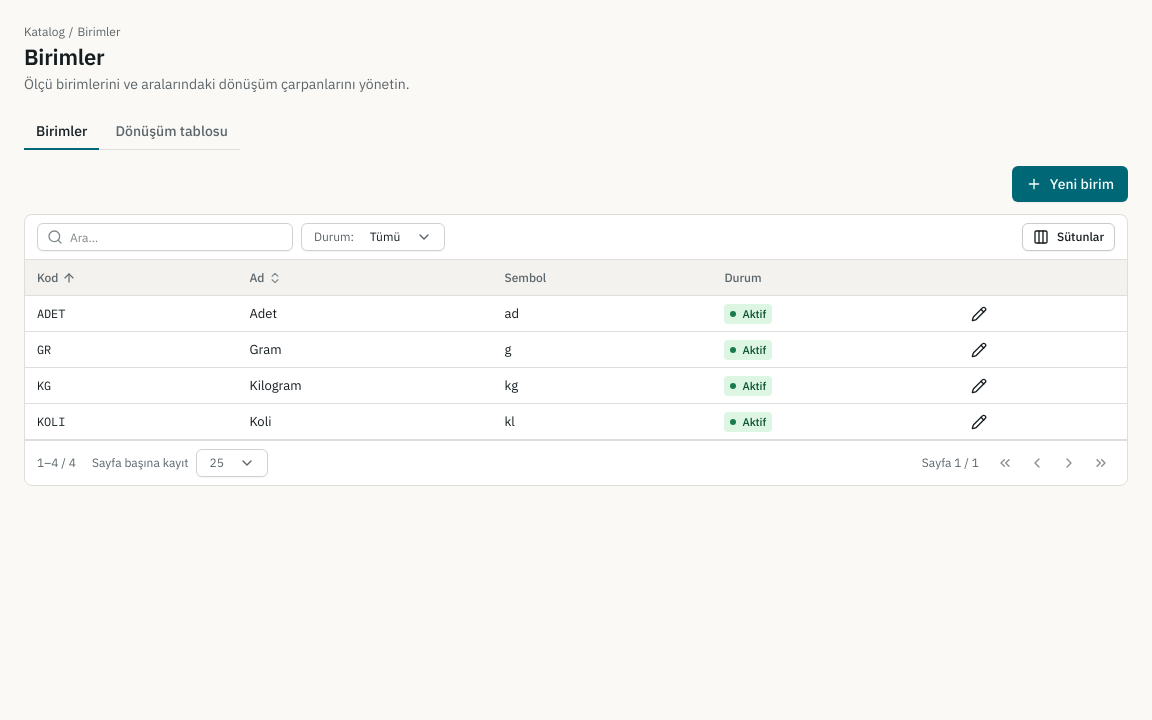
Test: UnitsPage › offers a reload on a version conflict
The width and height of the screenshot is (1152, 720).
Click the button named "KG birimini düzenle" at (979, 386), box [965, 372, 993, 400]
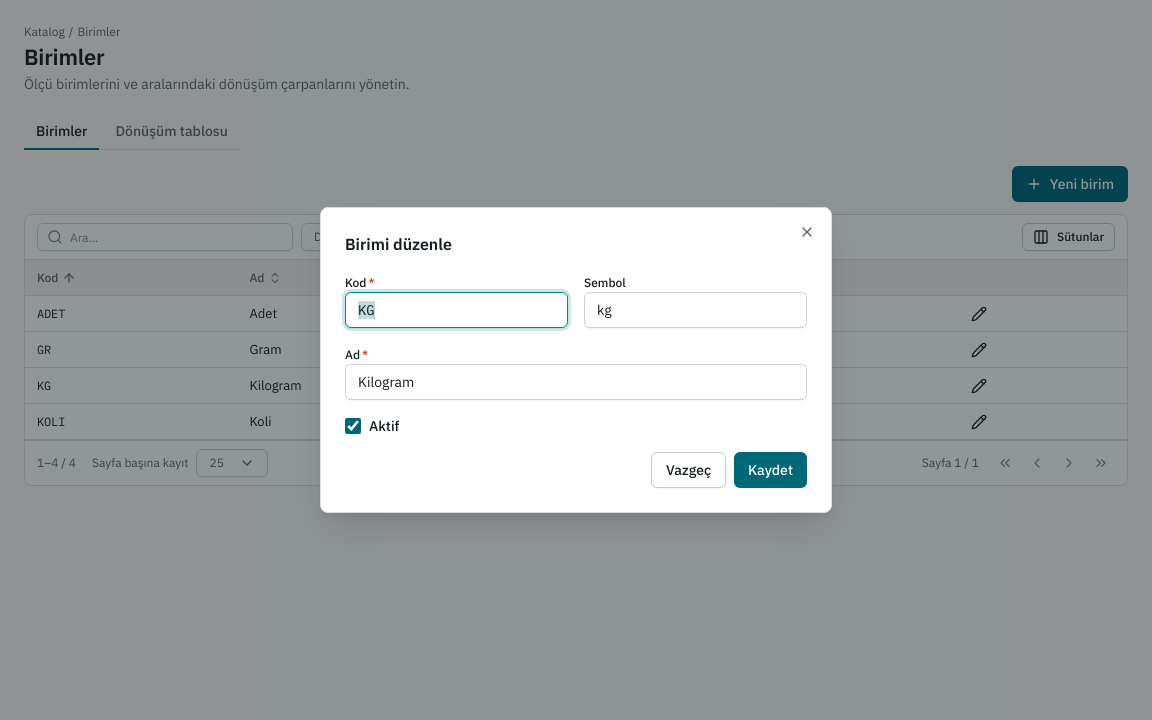
Replace the text in the field labelled "Ad*" with "Kg" at (576, 382), box [345, 364, 807, 400]
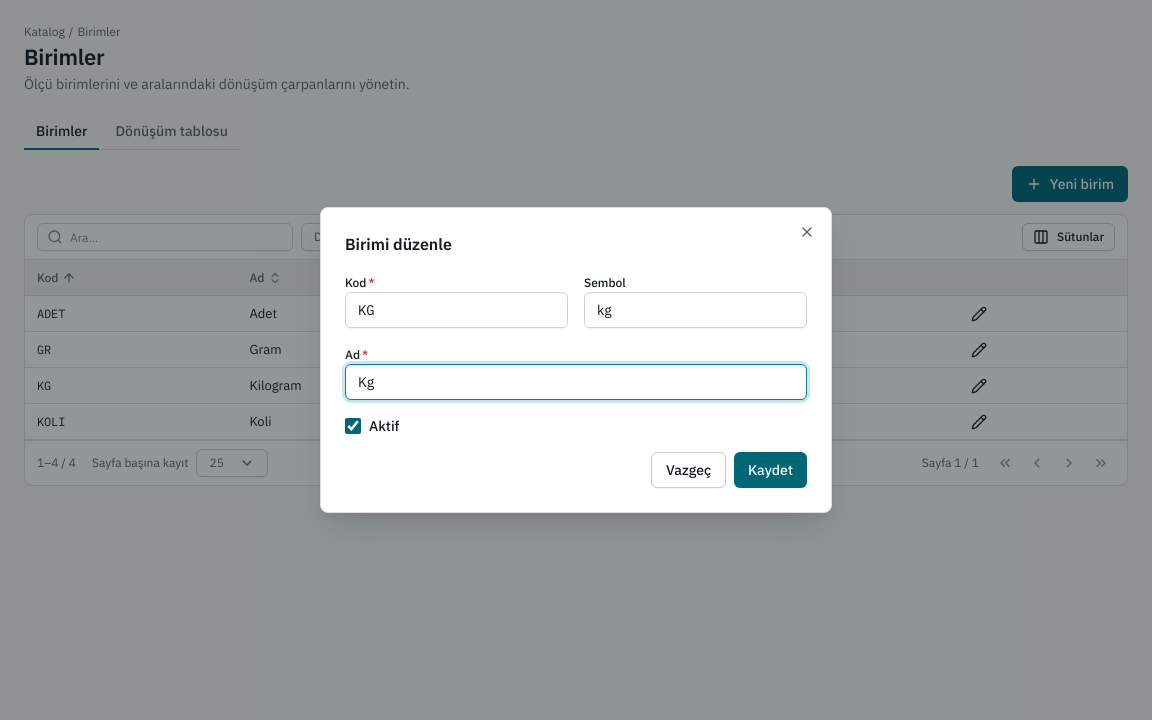
Click the button "Kaydet" at (771, 470), box [734, 452, 807, 488]
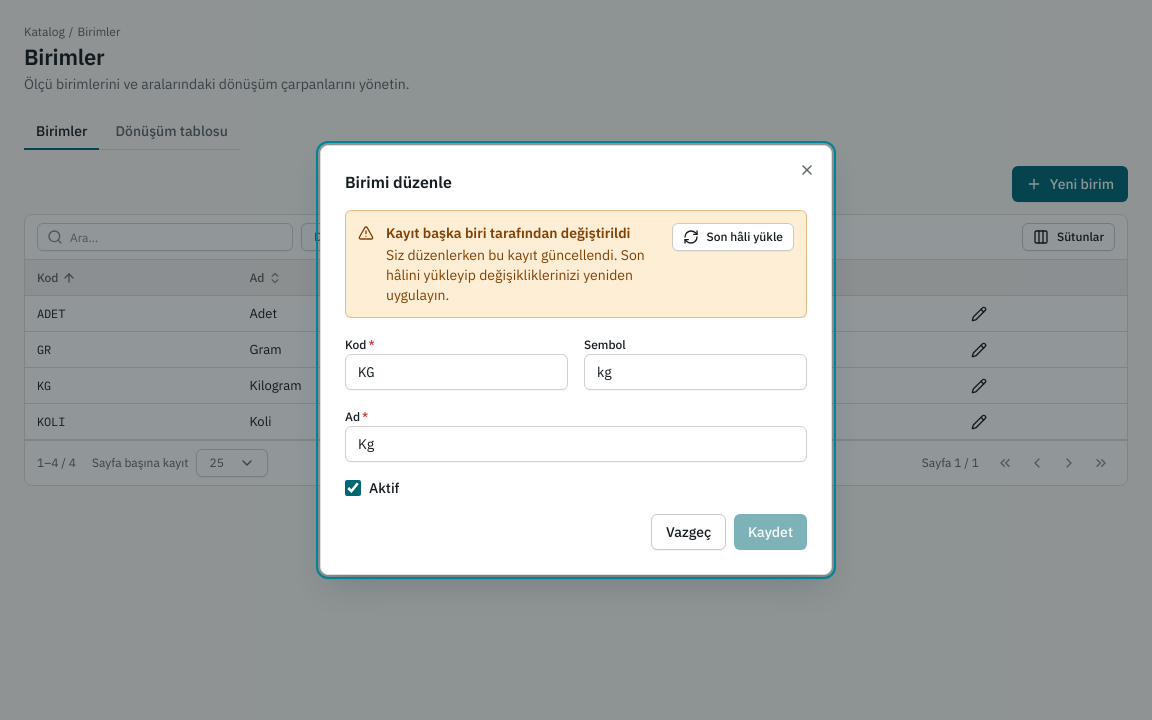
Expected: the text "Kayıt başka biri tarafından değiştirildi" is shown, [386, 223, 660, 243]
Expected: the button "Kaydet" is disabled, [734, 514, 807, 550]
Click the button "Son hâli yükle" at (733, 237), box [672, 223, 794, 251]
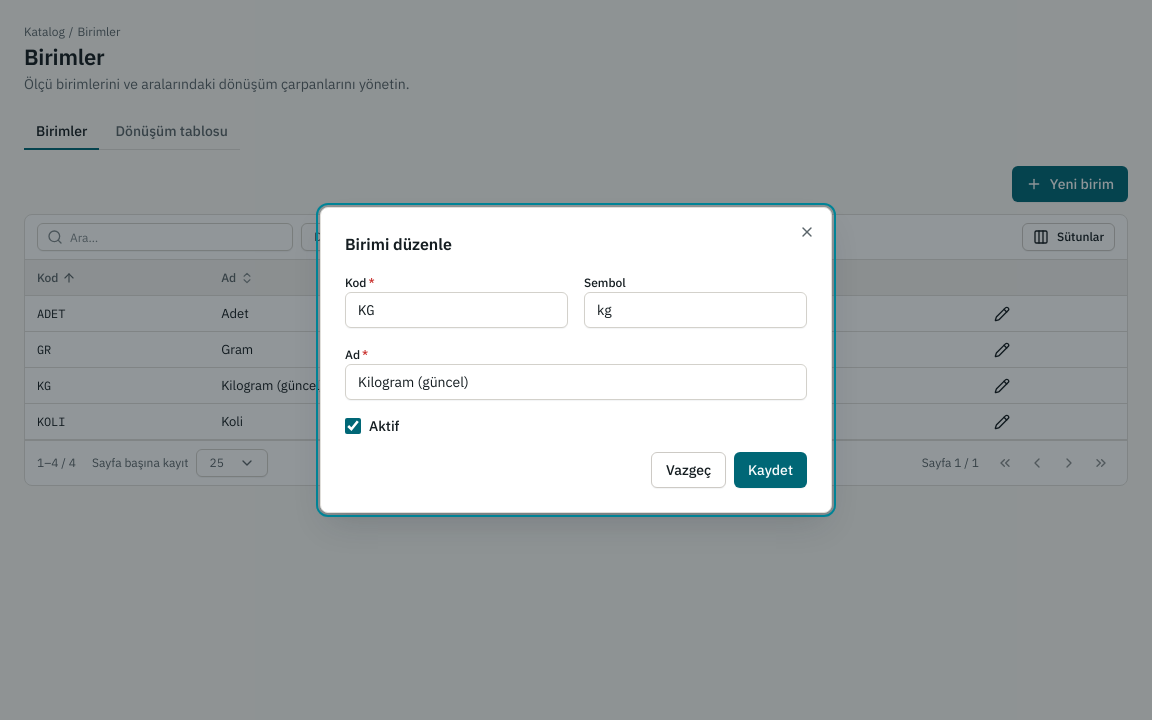
Expected: the field labelled "Ad*" holds "Kilogram (güncel)", [345, 364, 807, 400]
Click the button "Kaydet" at (771, 470), box [734, 452, 807, 488]
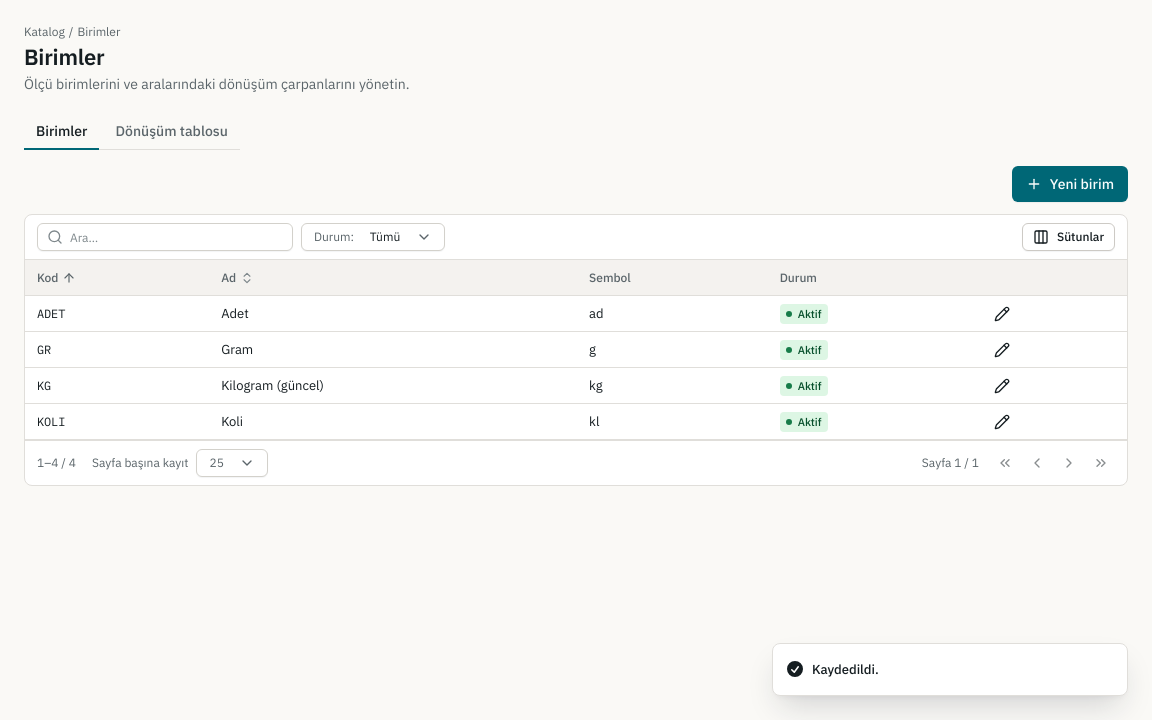
Expected: the dialog is gone
